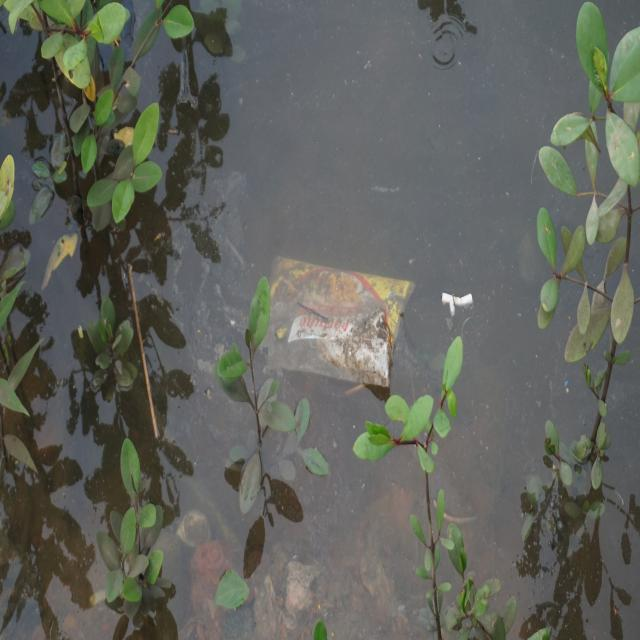Bungkus Makanan: (257, 240, 418, 394)
